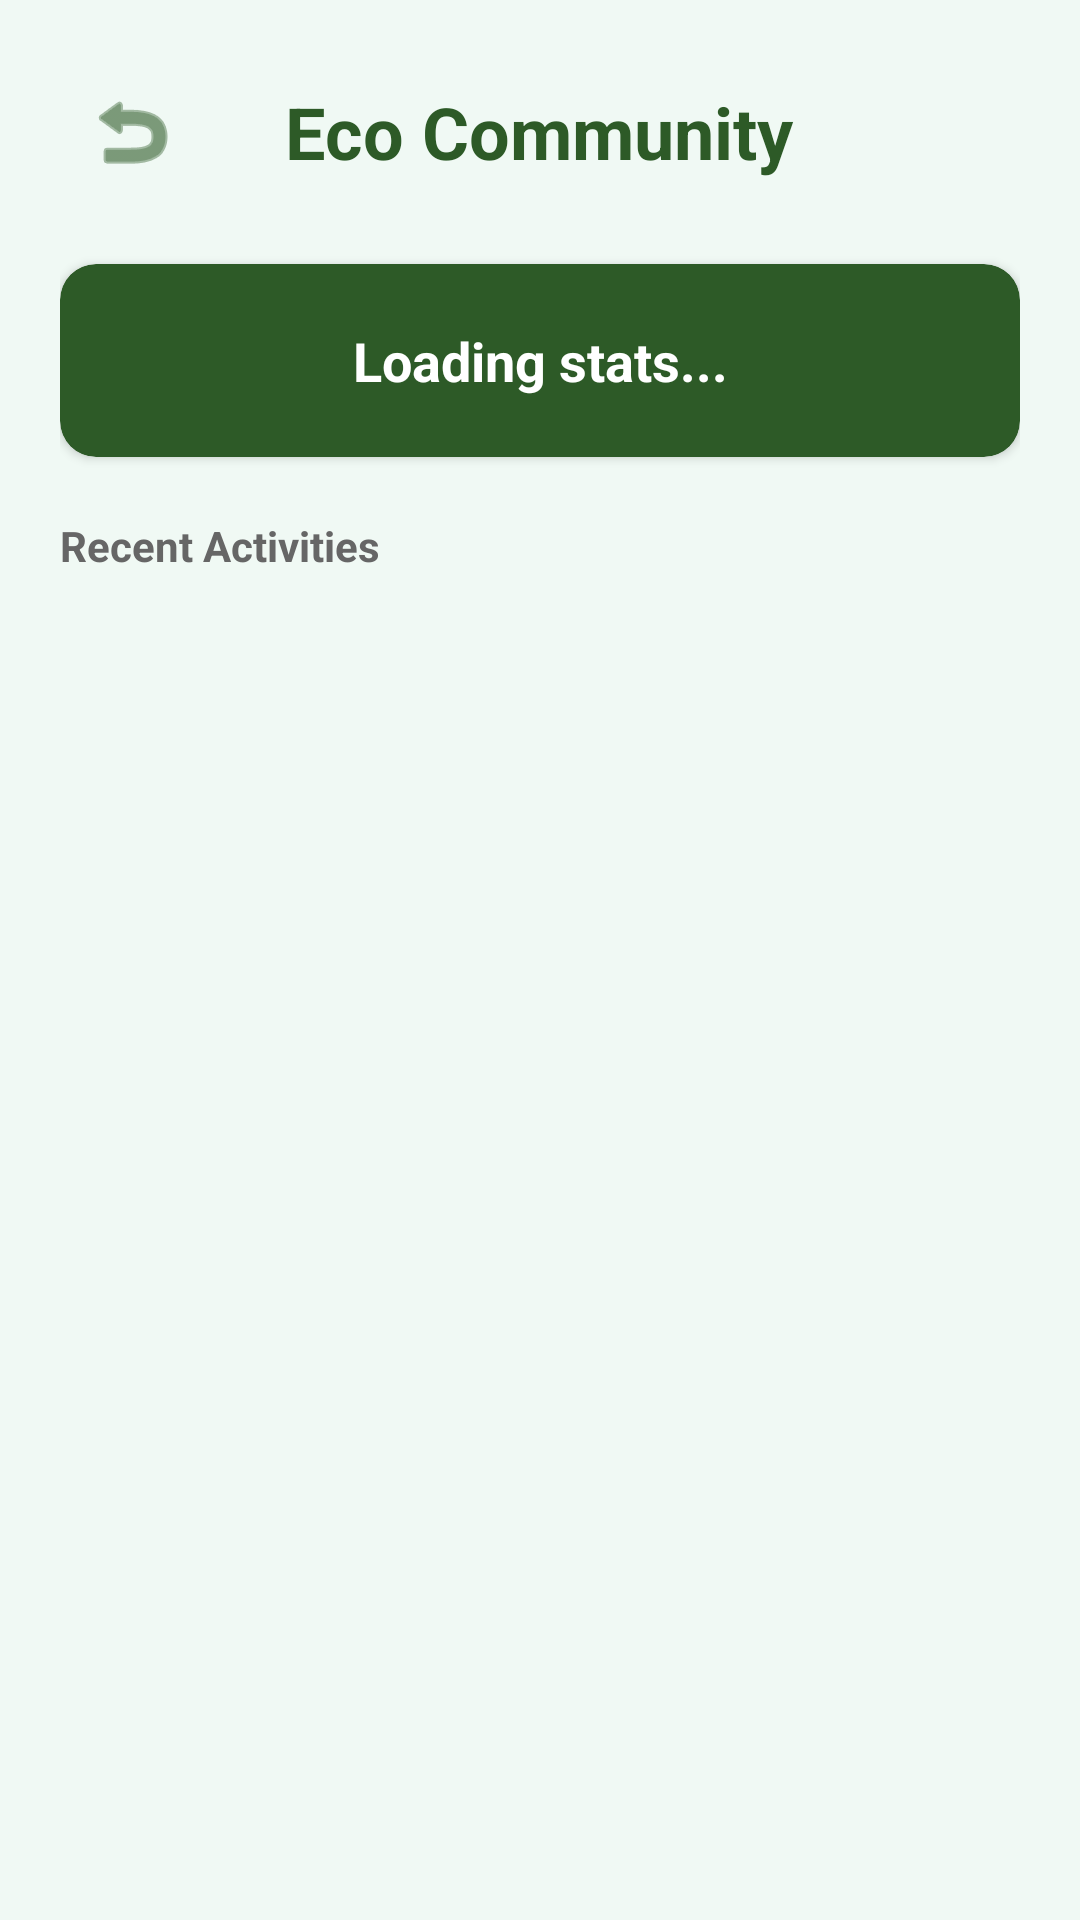

Named icons in this screenshot (1080px x 1920px) and their bounding boxes, (x1, y1, x2, y2):
Go Back: (99, 101, 168, 164)
